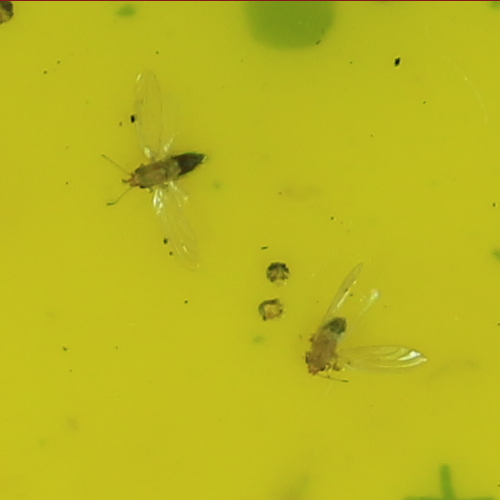Glycaspis: (128, 147, 209, 192), (305, 312, 353, 380)
